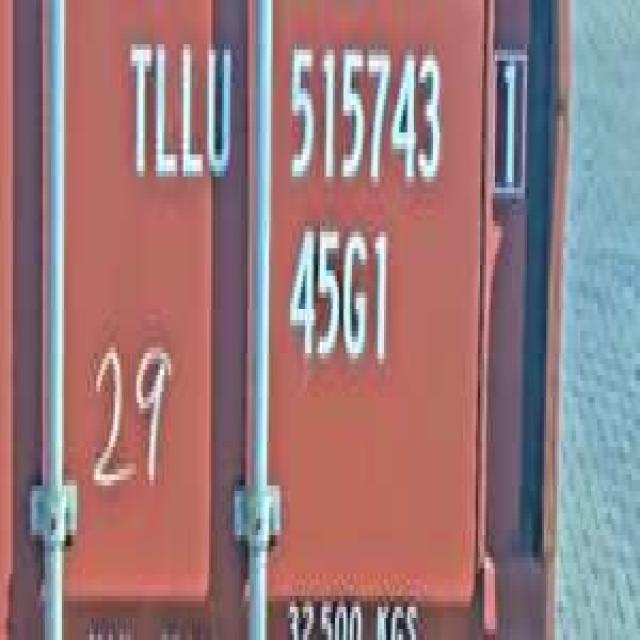dv: (484, 28, 529, 204)
owner: (121, 17, 236, 204)
serial: (279, 22, 448, 204)
size: (282, 210, 394, 386)
